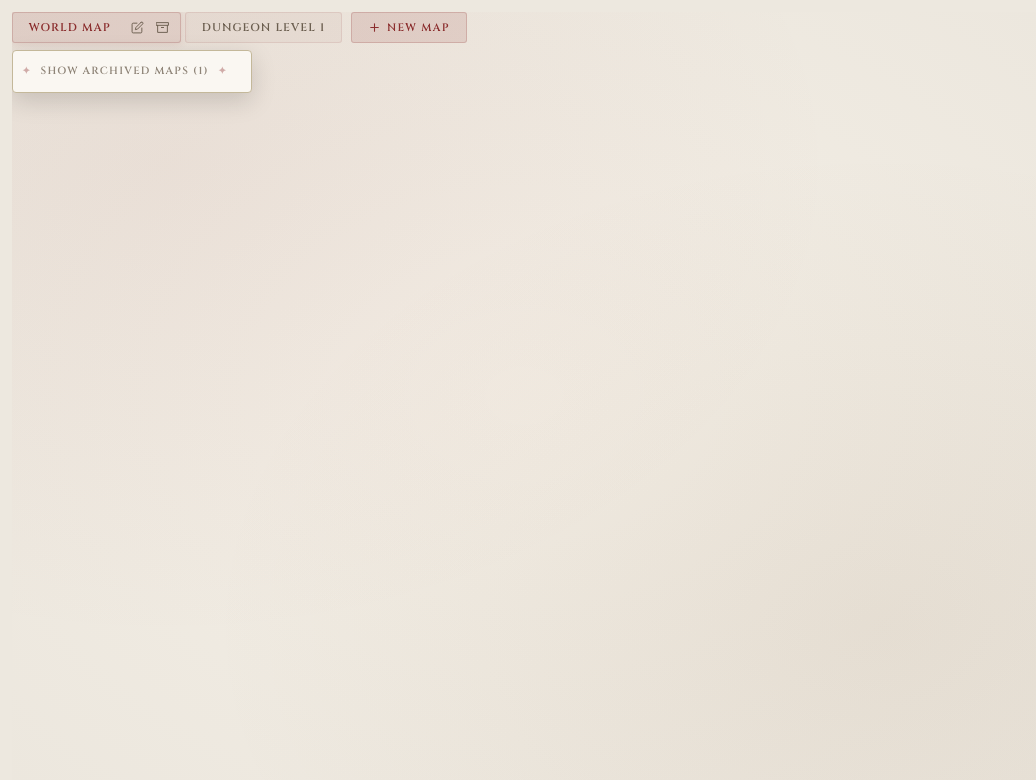
it: MapSelector › should show "Archived" when archived_at is null
Click the button "✦ Show Archived Maps (1) ✦".
click(125, 71)  # box [22,60,228,83]
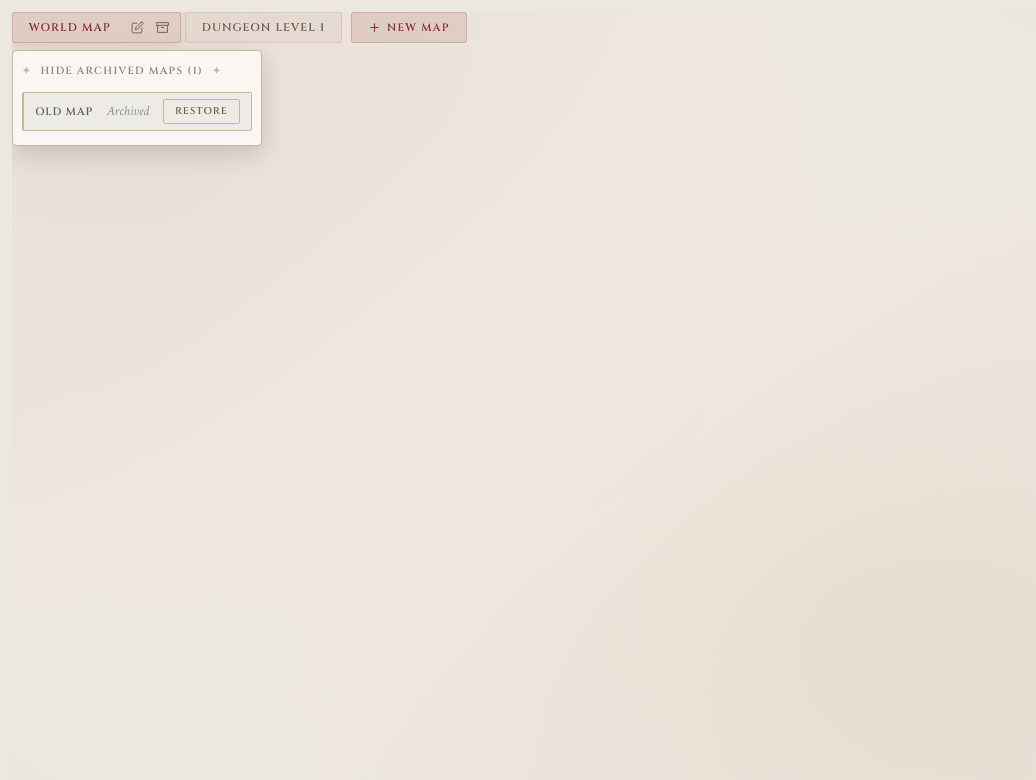
Now the text "Archived" is shown, box [107,100,149,123]
